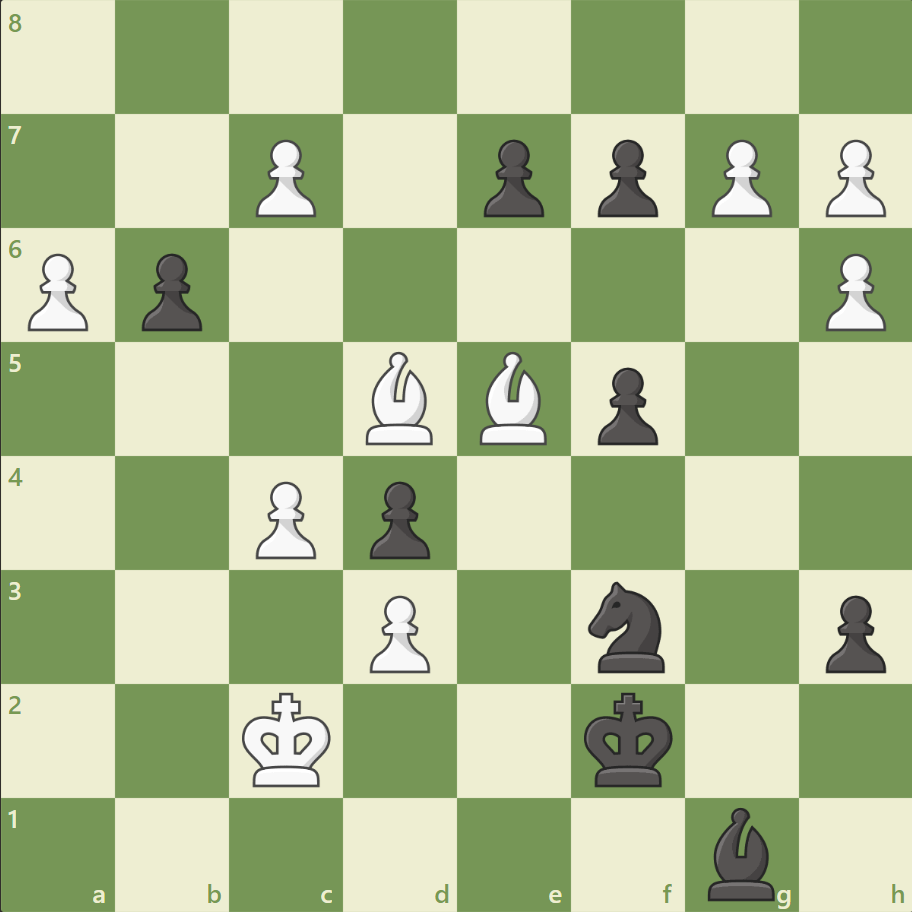B: (358, 347, 442, 449), (471, 347, 555, 449)
K: (238, 685, 338, 793)
P: (247, 132, 322, 223), (701, 132, 776, 223), (20, 246, 95, 337), (247, 473, 322, 564), (815, 132, 889, 223), (815, 246, 889, 337), (361, 586, 435, 677)
b: (698, 801, 782, 904)
k: (579, 685, 679, 793)
n: (579, 575, 676, 677)
p: (474, 132, 549, 223), (133, 246, 208, 337), (588, 132, 662, 223), (588, 359, 662, 450), (361, 473, 435, 564), (815, 586, 889, 677)
